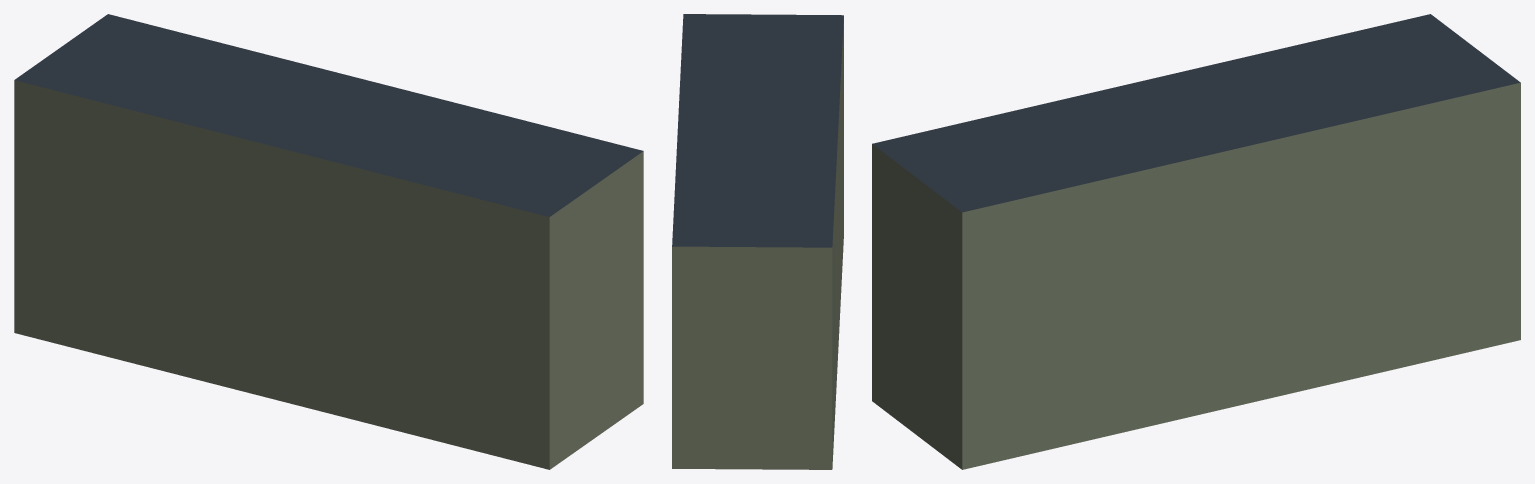
File: nyc-1024661-0.glb
The picture shows the model from 3 angles, left to right: view 1: azimuth 30°, elevation 25°; view 2: azimuth 150°, elevation 25°; view 3: azimuth 270°, elevation 25°; orthographic projection. The views are drawn at different scales.
Visible parts, largest first — view 1: nyc-1024661-0; view 2: nyc-1024661-0; view 3: nyc-1024661-0.
Part boxes in pixels (left/top/right/bottom): nyc-1024661-0: left=14, top=14, right=643, bottom=469; nyc-1024661-0: left=672, top=14, right=843, bottom=469; nyc-1024661-0: left=872, top=14, right=1520, bottom=469.
Size of the model in its own units: 21 by 12.7 by 29.
